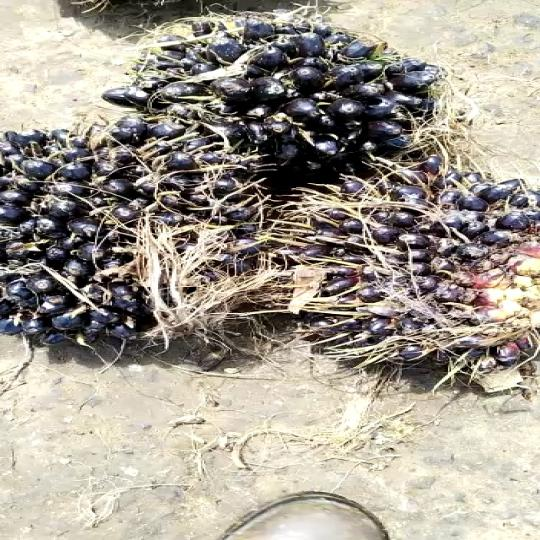mentah: (0, 94, 299, 368), (105, 18, 447, 179), (298, 164, 540, 388)
